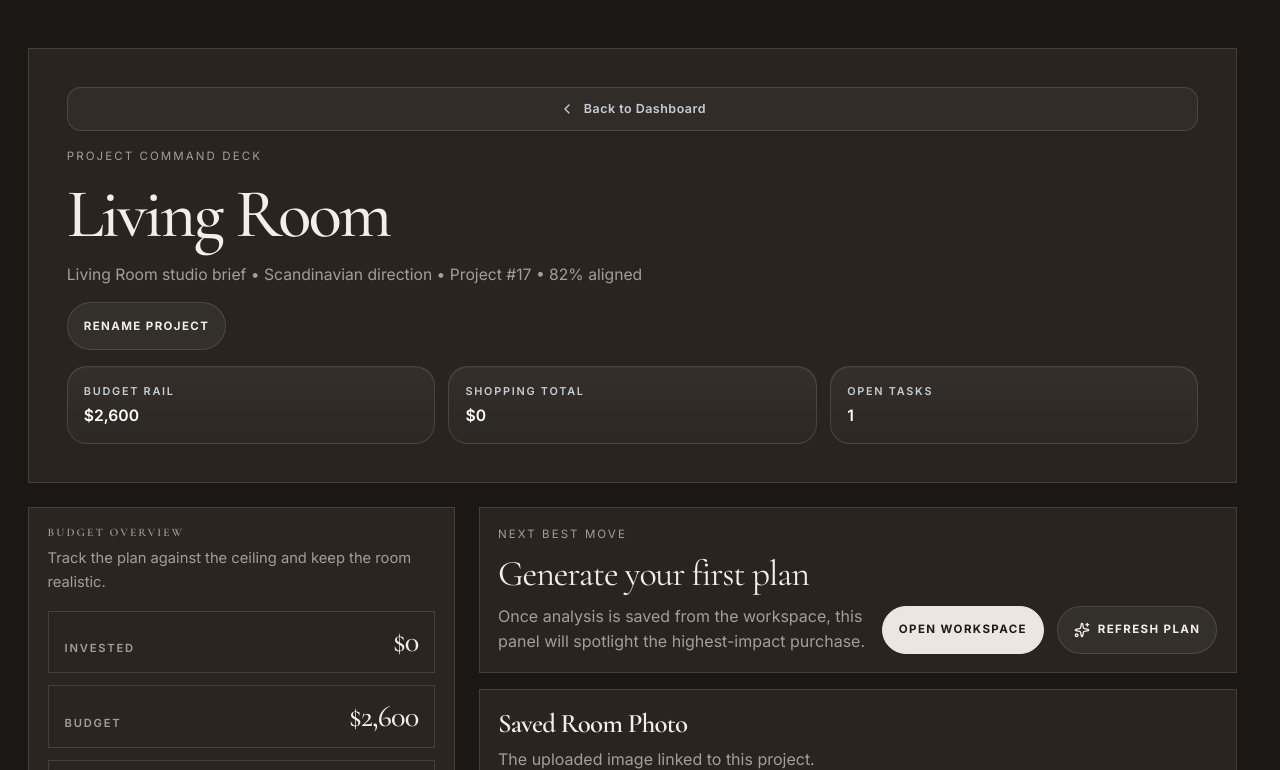
ProjectDetails smoke states › surfaces project action failures instead of failing silently
Expected: the heading "Living Room" is shown, [67,172,390,256]
What coordinates should you click on to do the following:
click the button "Refresh Plan"
I would click on:
 (1137, 630)
Its box is [1057,606,1218,654].
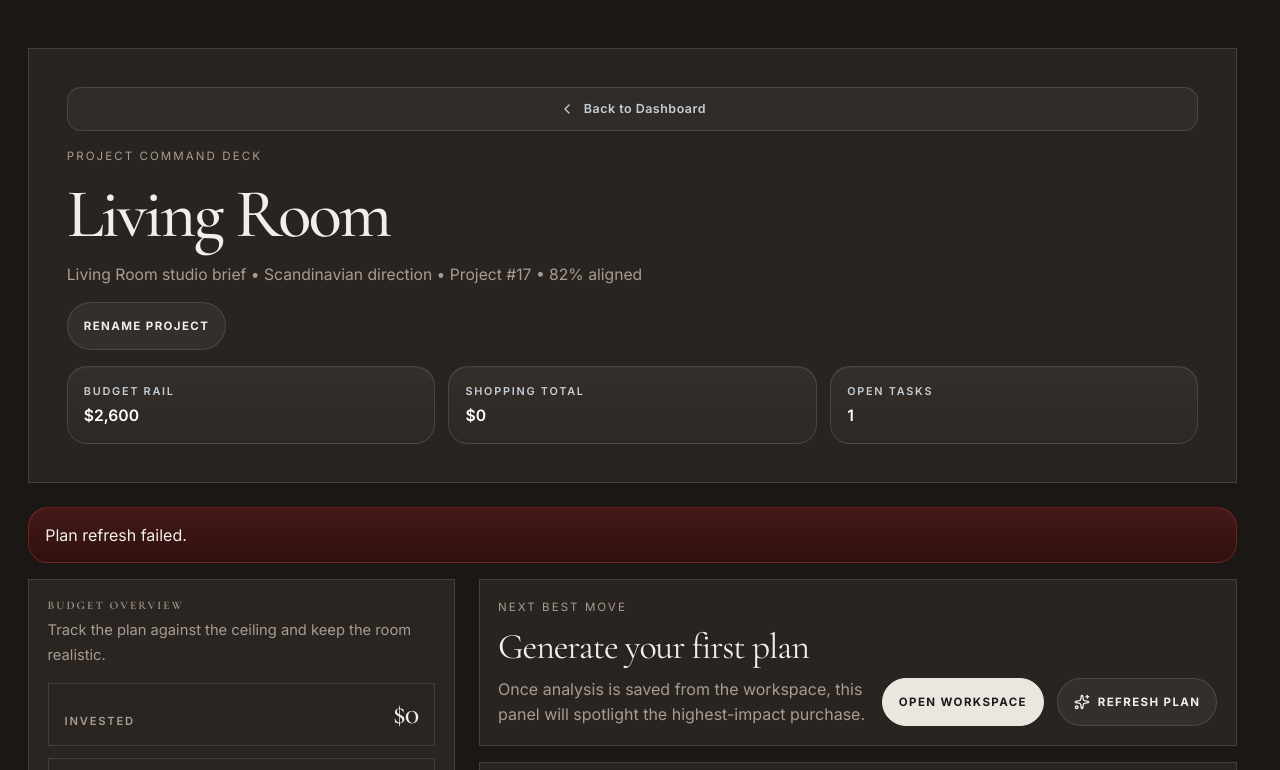
Result: the message shows "Plan refresh failed" at [45,525,187,545]
